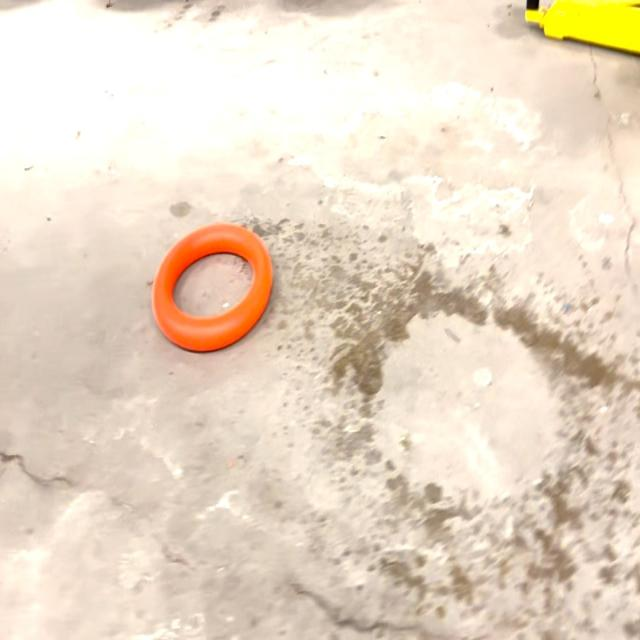note: (151, 222, 273, 353)
